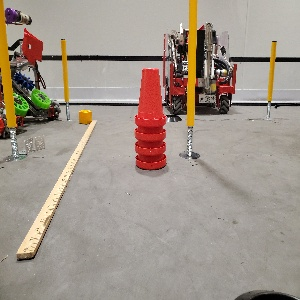Red_4: (130, 64, 169, 173)
